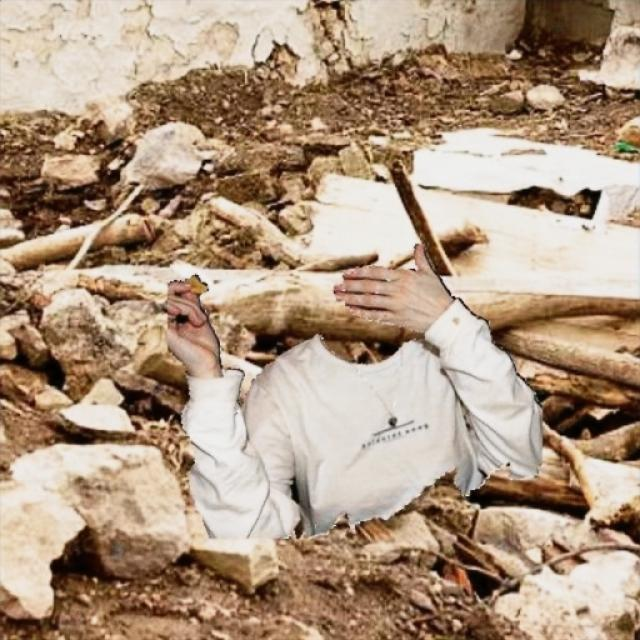Person in Rubble: (168, 243, 542, 538)
